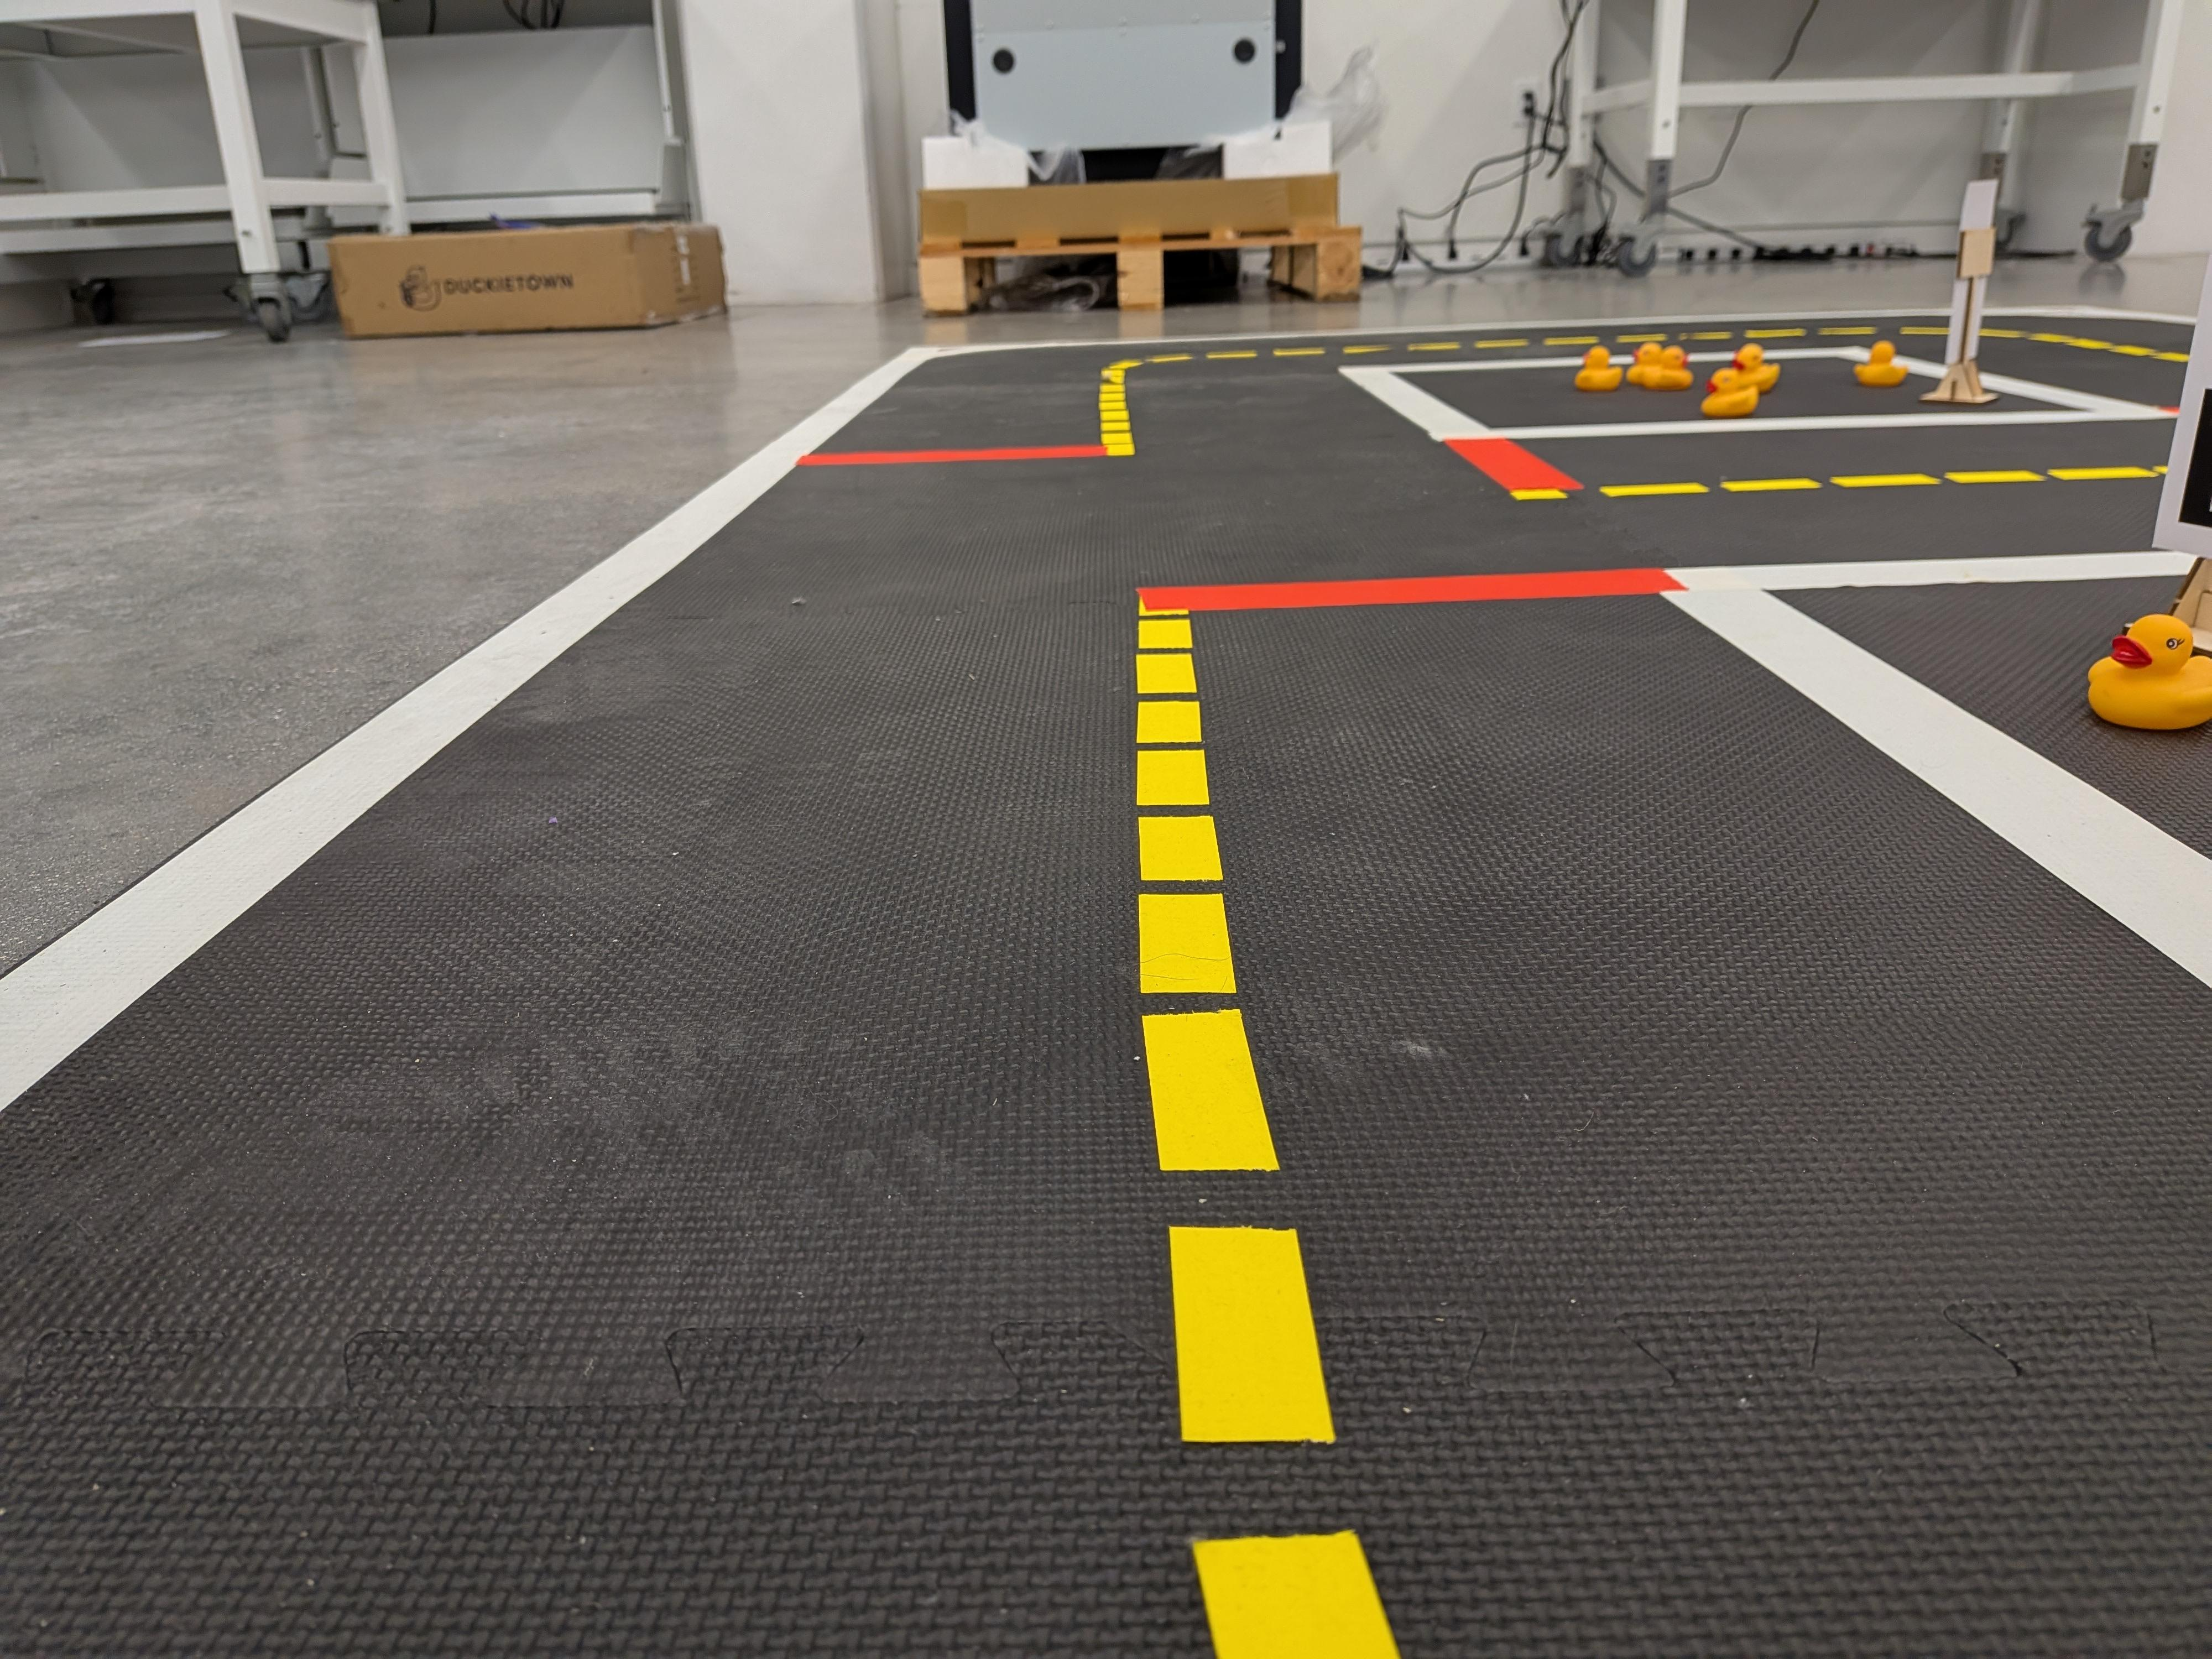peasant: (2081, 612, 2212, 742), (1698, 366, 1761, 422), (1721, 342, 1780, 399), (1571, 345, 1627, 399), (1851, 340, 1909, 392), (1641, 347, 1693, 394), (1623, 338, 1658, 385)
stopbar: (1137, 568, 1686, 610), (1426, 429, 1592, 491), (799, 443, 1103, 472)
whiteline: (2, 211, 928, 1122), (1665, 587, 2212, 997), (914, 307, 2193, 357), (1672, 545, 2212, 587), (1420, 406, 2181, 427), (1345, 361, 1489, 436)
yellowline: (1130, 605, 1402, 1659), (1125, 324, 1993, 362), (1514, 458, 2167, 505), (1996, 326, 2189, 369), (1103, 350, 1139, 464)
